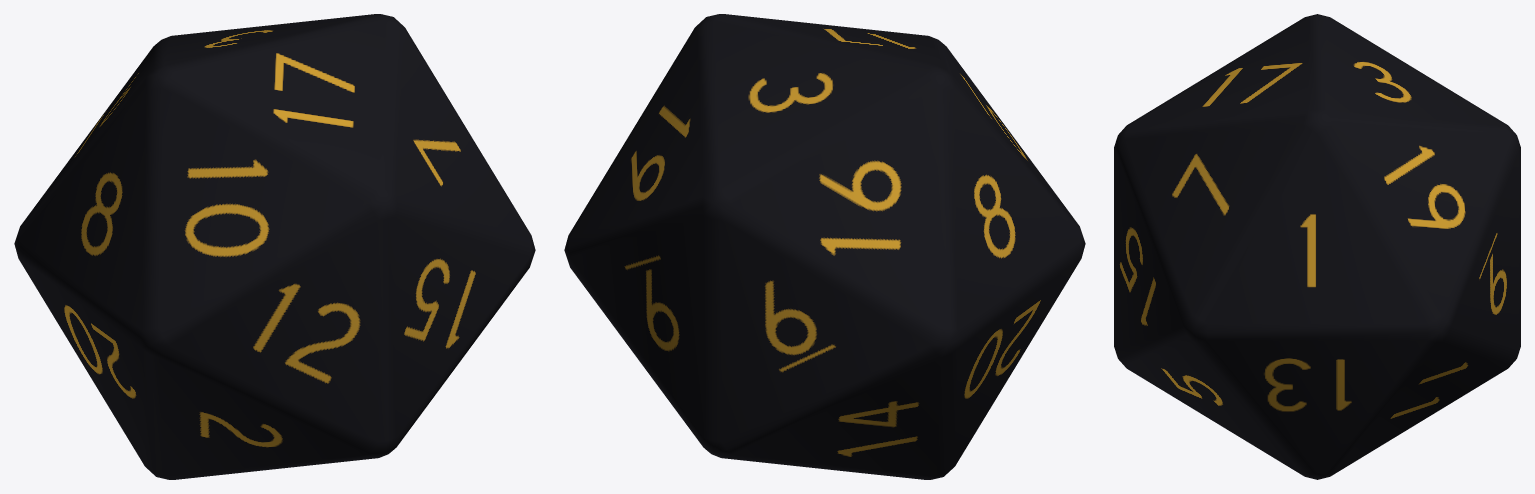
The picture shows the model from 3 angles, left to right: view 1: azimuth 30°, elevation 25°; view 2: azimuth 150°, elevation 25°; view 3: azimuth 270°, elevation 25°; orthographic projection. The views are drawn at different scales.
Parts seen in each view (by area): view 1: d20; view 2: d20; view 3: d20.
Part boxes in pixels (x1,y1,x2,y2): d20: (14, 14, 535, 479); d20: (564, 14, 1085, 479); d20: (1114, 14, 1520, 479).
Bounding box in the file's own units: 1.24 × 1.24 × 1.24.
Materials: 1 (1 with a texture image).
